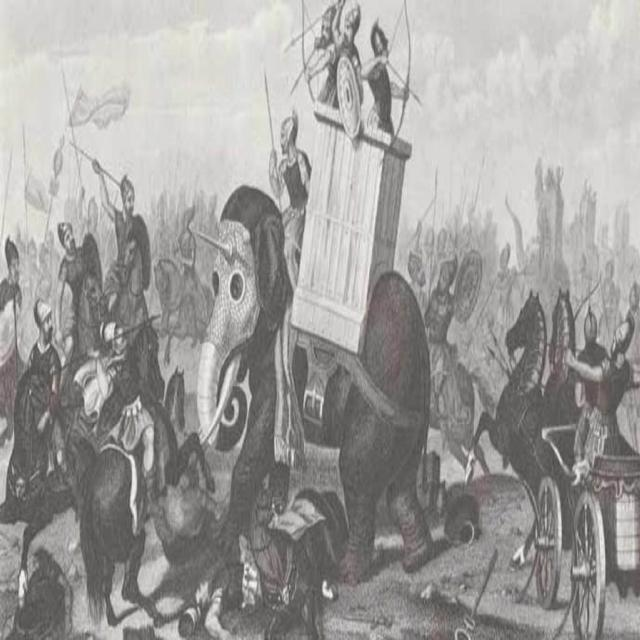elephant: (194, 179, 432, 584)
